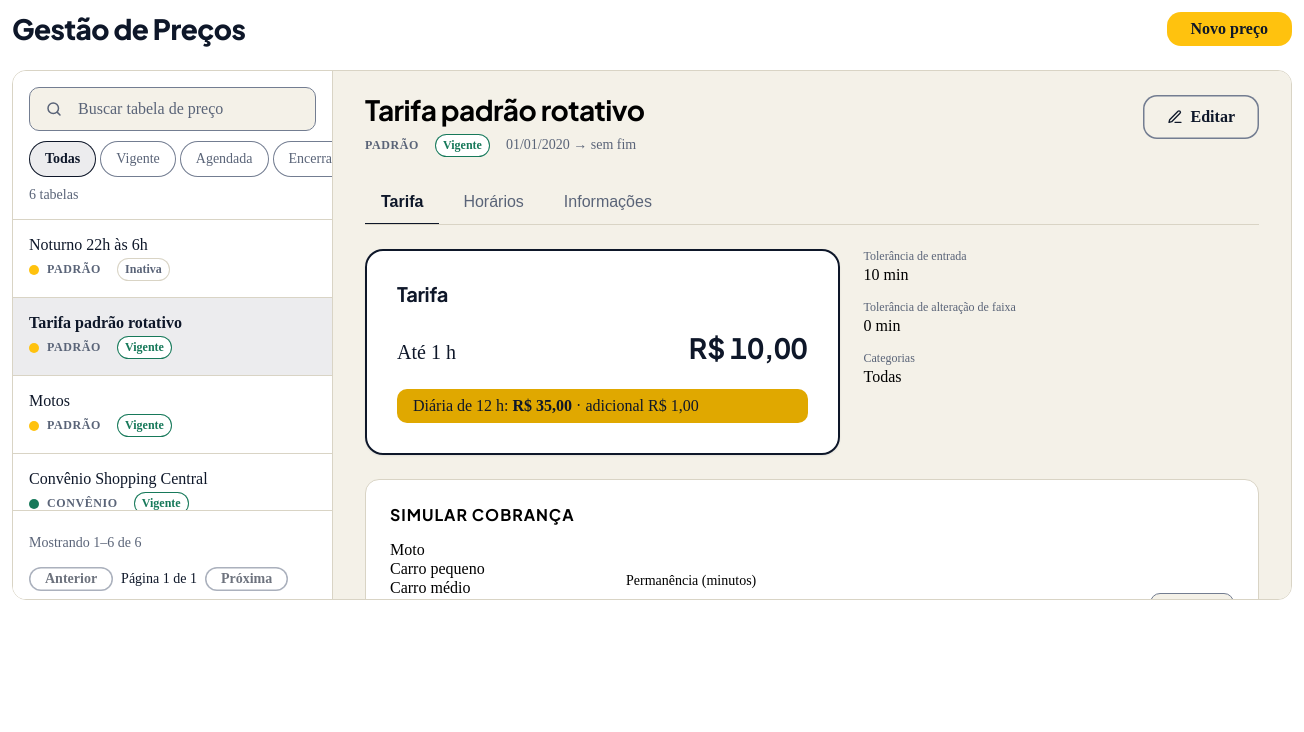
Scenario: PrecosMasterDetail: busca e filtro › filtra por situação e mostra a contagem no plural e no singular
Check: the list named "Tabelas de preço" is shown, box x1=13 y1=220 x2=332 y2=510
Click the radio button labelled "Vigente" at (138, 159), box x1=100 y1=141 x2=176 y2=177
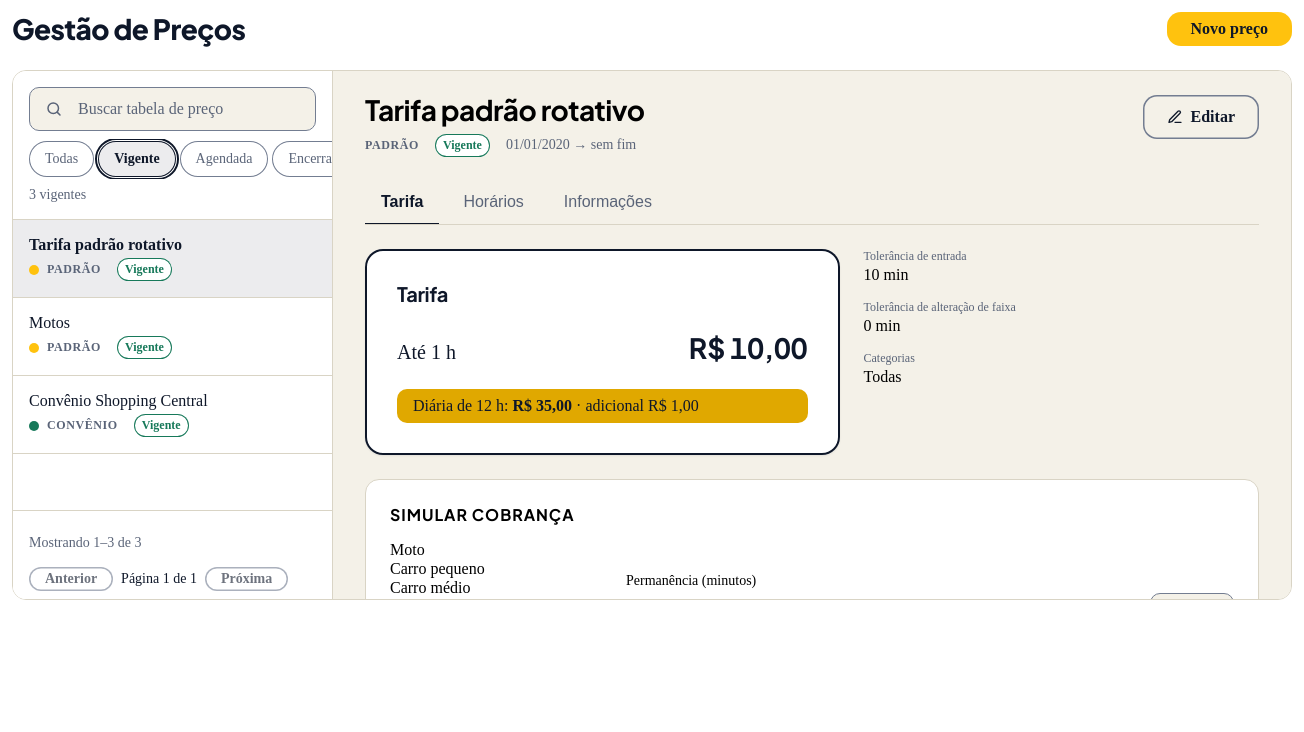
Check: the text "3 vigentes" is shown, box x1=29 y1=187 x2=86 y2=202
Click the radio button labelled "Agendada" at (224, 159), box x1=180 y1=141 x2=268 y2=177
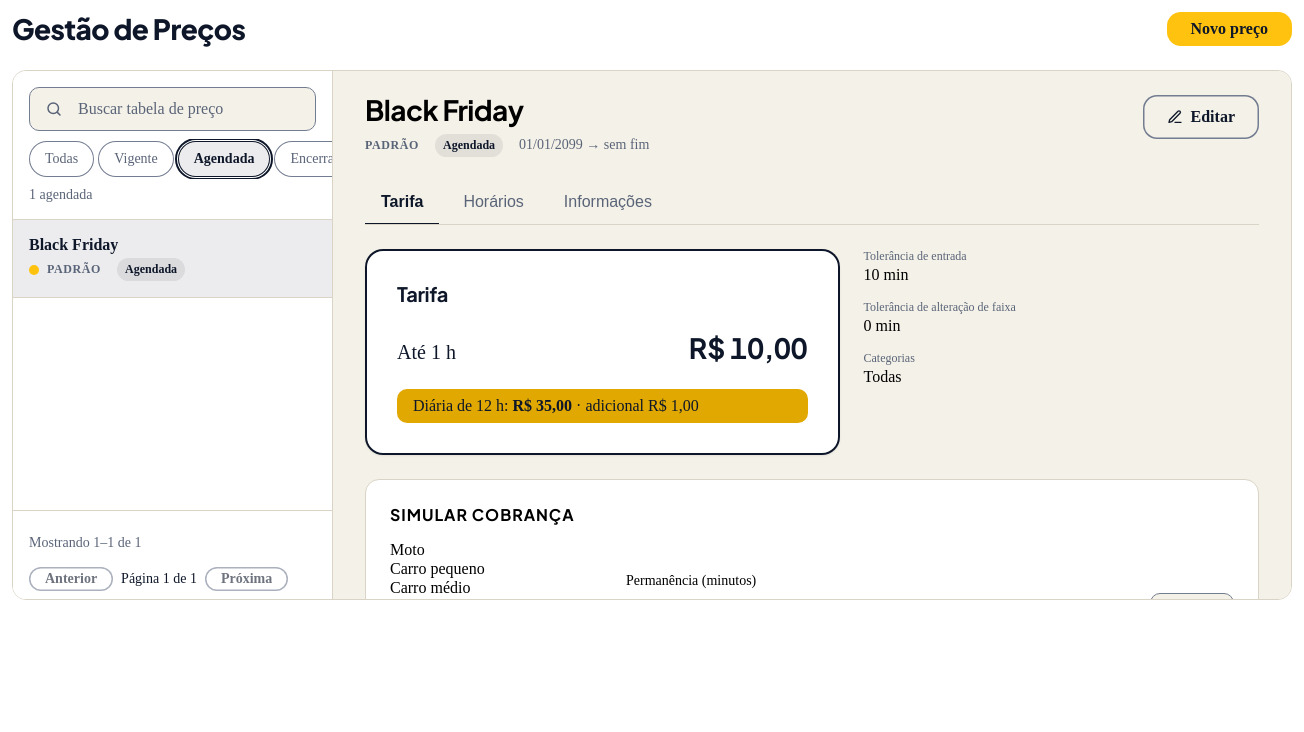
Check: the text "1 agendada" is shown, box x1=29 y1=187 x2=92 y2=202
